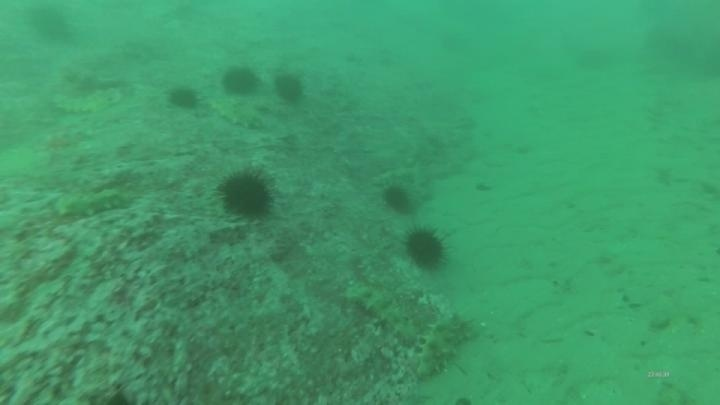echinus: (216, 165, 278, 222), (403, 224, 451, 272), (25, 4, 75, 45), (220, 63, 261, 99), (380, 182, 416, 216), (272, 71, 306, 105), (166, 83, 202, 113)
holothurian: (345, 281, 425, 349), (411, 309, 475, 381), (50, 186, 133, 222), (48, 84, 122, 117), (208, 95, 269, 132)
